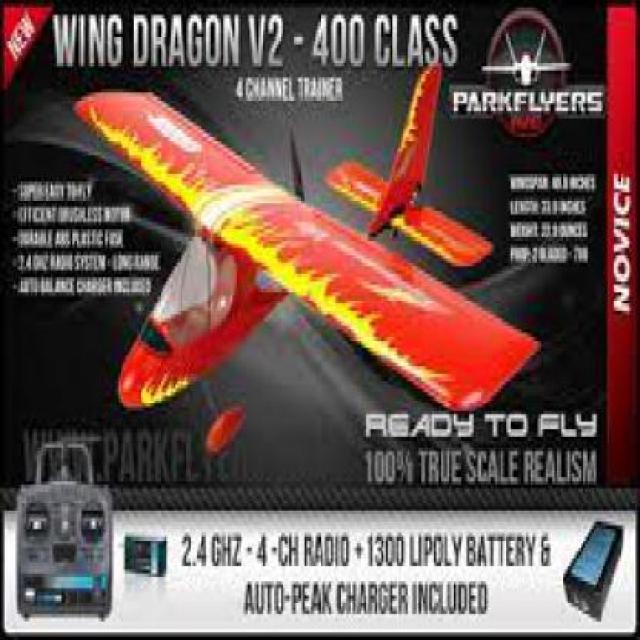iha: (68, 53, 544, 462)
